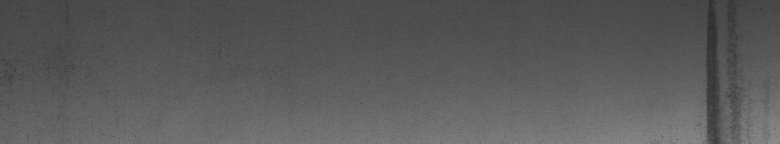hd: (700, 4, 747, 136)
